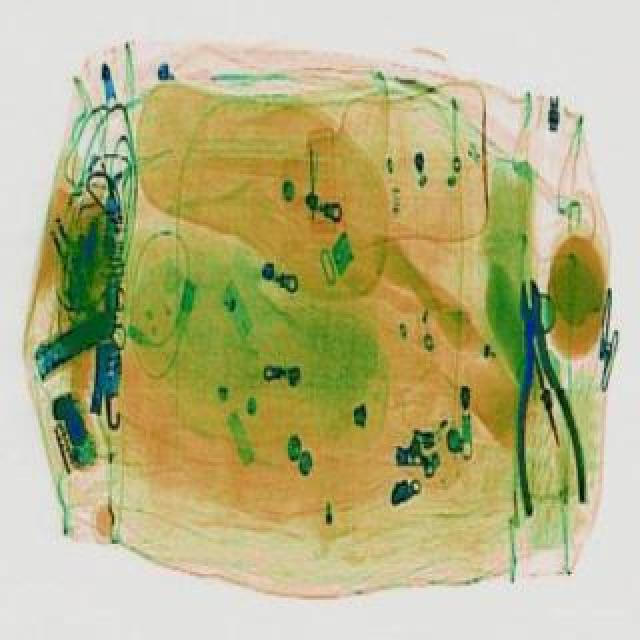wrench: (496, 274, 592, 512)
